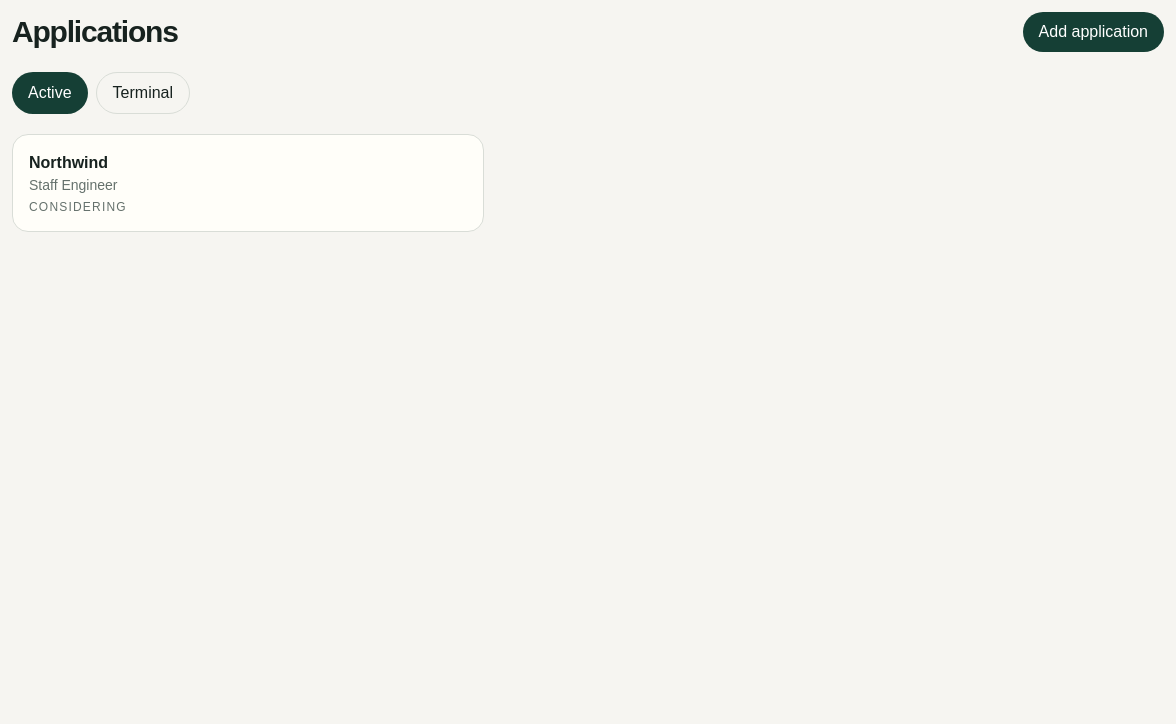
Test case: ApplicationsView › renders the location and an openable job URL in the detail panel
What coordinates should you click on to do the following:
click the button "Northwind Staff Engineer considering"
I would click on:
 (69, 162)
Its box is [12,134,484,232].
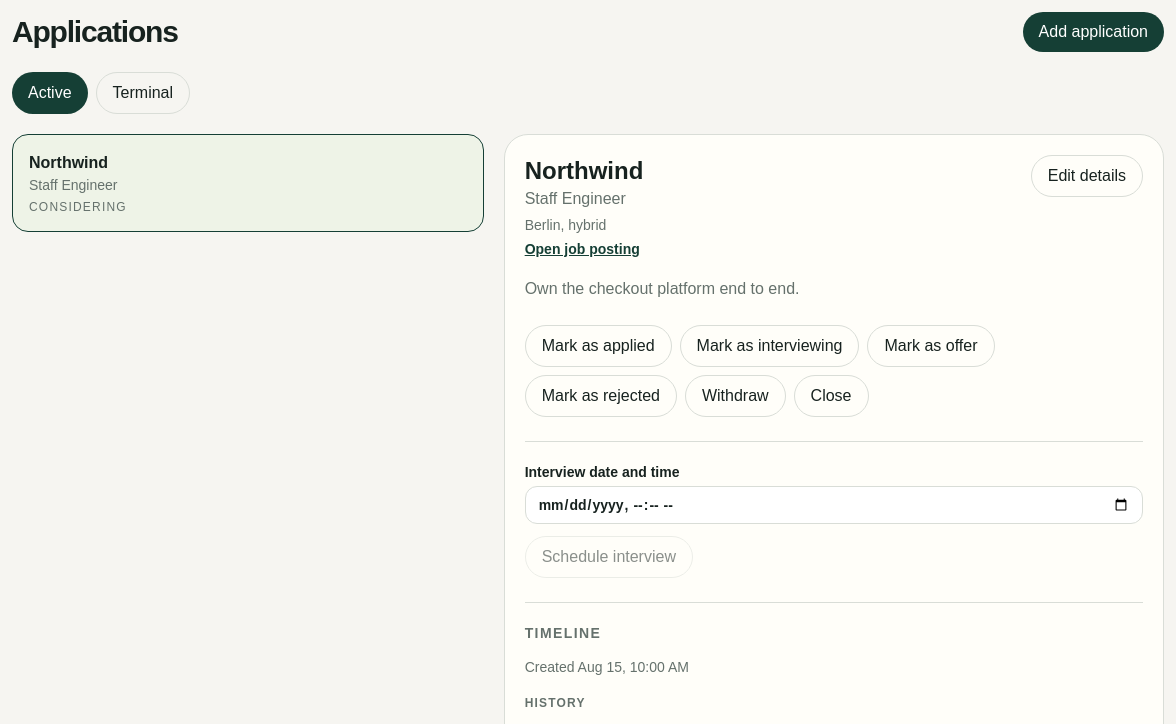
Now the text "Berlin, hybrid" is shown, box [525,217,606,233]
